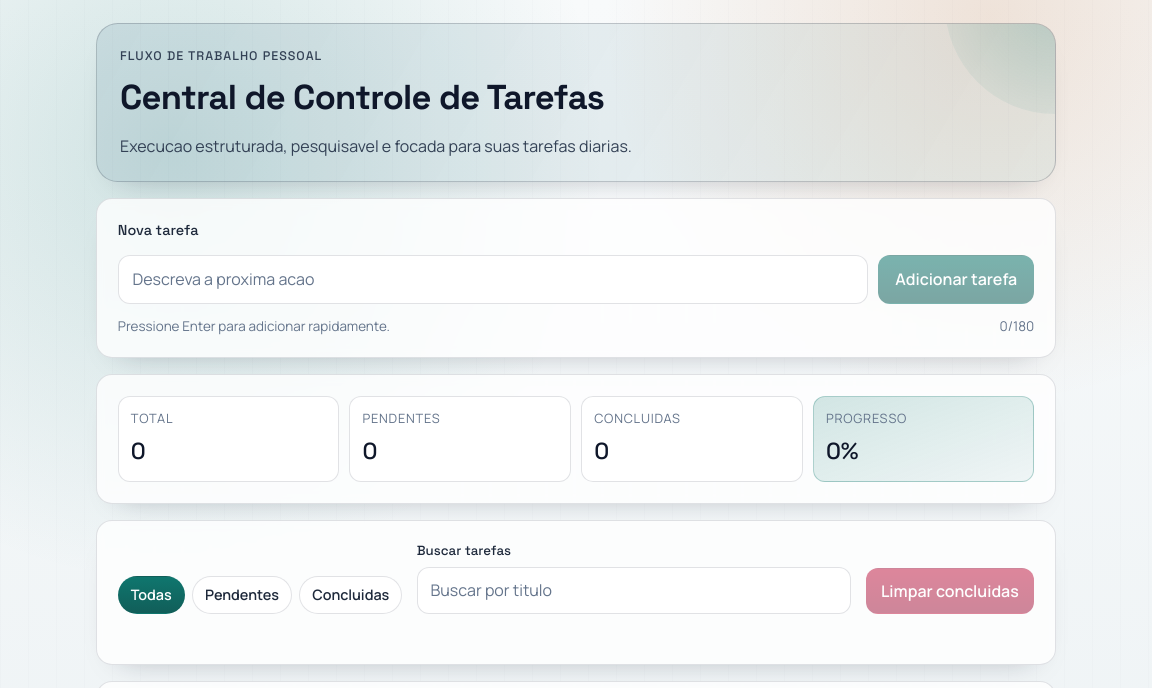
it: App integration › edita com Enter e cancela com Escape
The image size is (1152, 688).
In the field labelled "Nova tarefa": (493, 279) x1=118 y1=255 x2=868 y2=304, type "Preparar planejamento semanal"
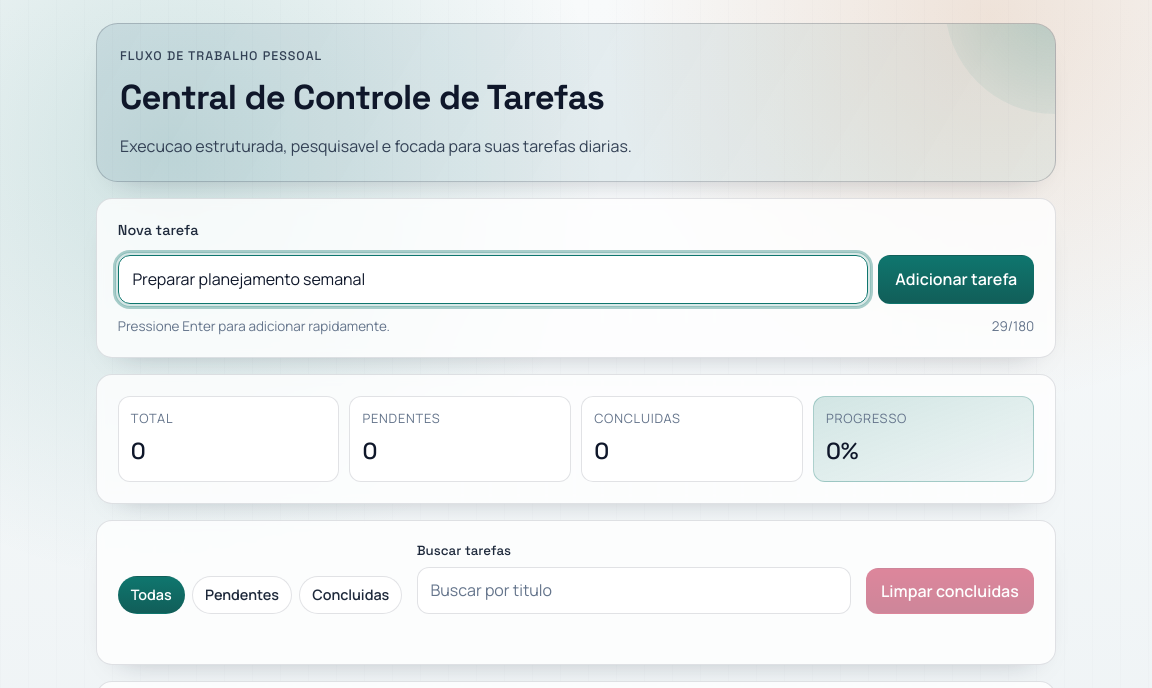
Click the button "Adicionar tarefa": (956, 279) x1=878 y1=255 x2=1034 y2=304
(page scrolled)
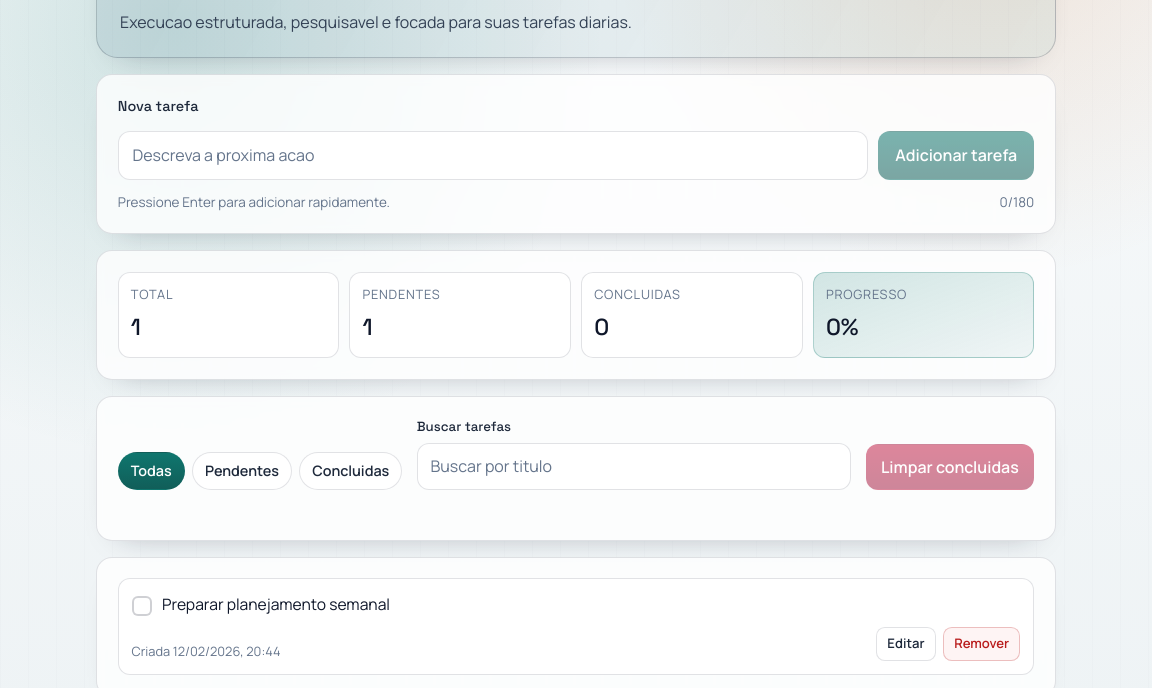
Click the button "Editar": (906, 644) x1=876 y1=627 x2=936 y2=661
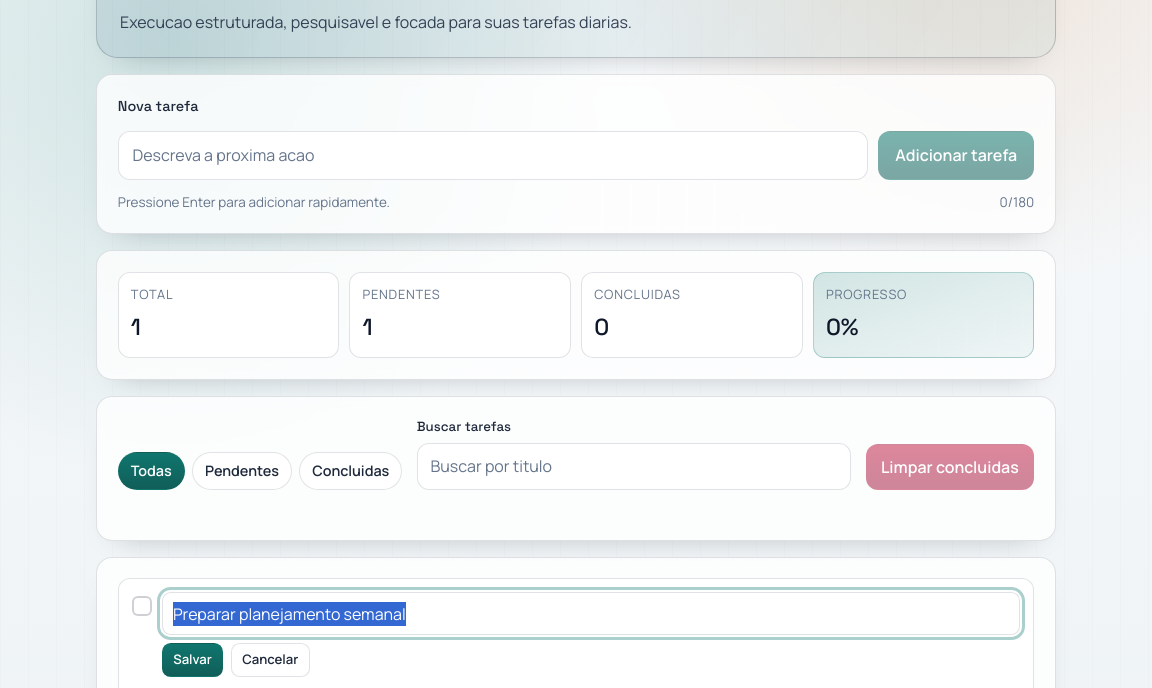
Replace the text in the field showing "Preparar planejamento semanal" with "Preparar planejamento de sprint": (591, 614) x1=162 y1=592 x2=1020 y2=635
Then press Enter
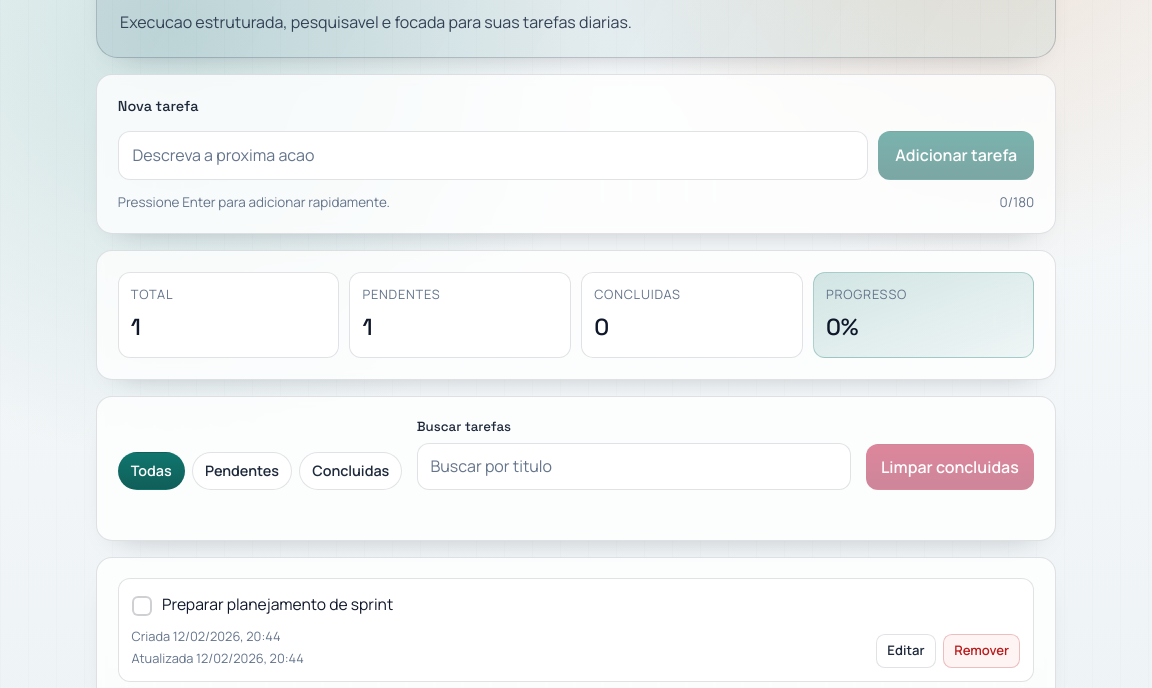
Expected: the button "Preparar planejamento de sprint" is shown, x1=162 y1=594 x2=1020 y2=616
Click the button "Editar": (906, 651) x1=876 y1=634 x2=936 y2=668
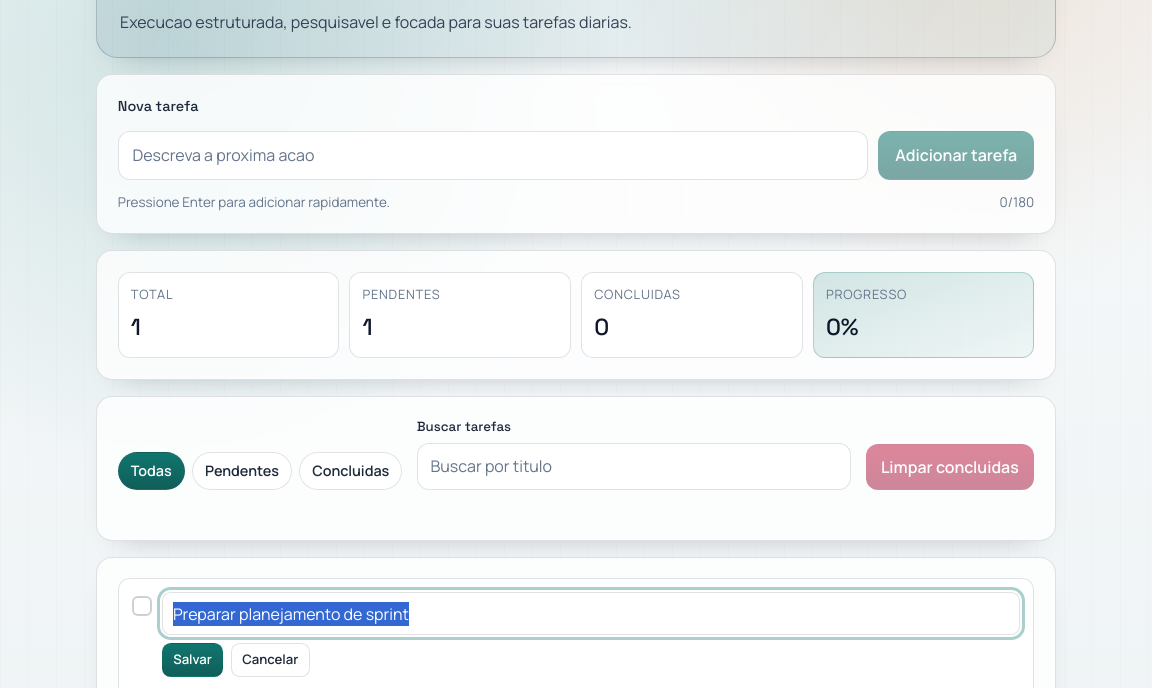
Replace the text in the field showing "Preparar planejamento de sprint" with "Rascunho temporario": (591, 614) x1=162 y1=592 x2=1020 y2=635
Then press Escape
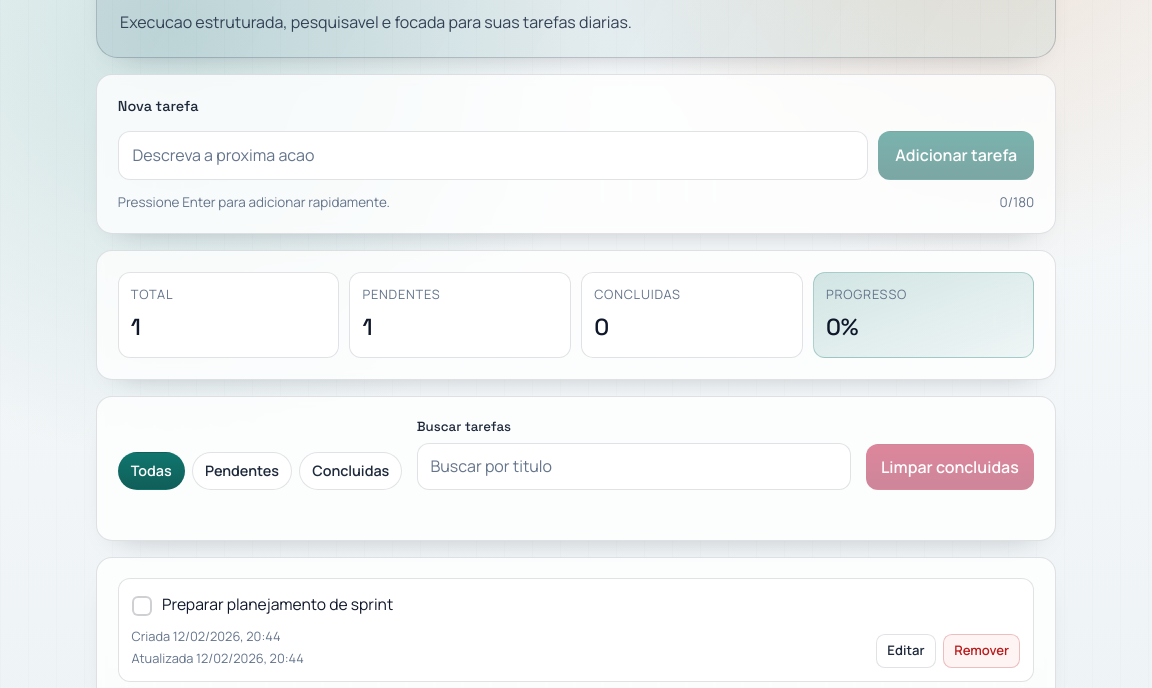
Expected: the button "Preparar planejamento de sprint" is shown, x1=162 y1=594 x2=1020 y2=616
